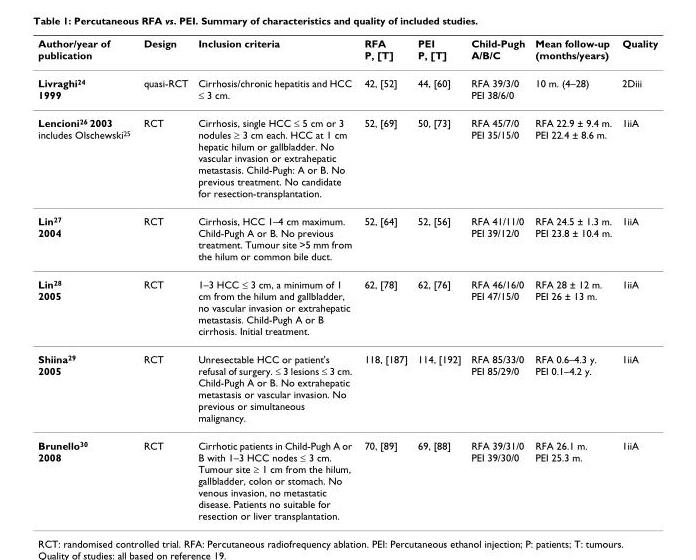table: (37, 36, 657, 521)
table column: (192, 36, 357, 521), (37, 36, 136, 521), (529, 36, 616, 521), (465, 36, 529, 521), (136, 36, 192, 521), (357, 36, 411, 521), (411, 36, 465, 521), (616, 36, 657, 521)
table column header: (37, 36, 657, 68)
table row: (37, 108, 657, 206), (37, 431, 657, 521), (37, 344, 657, 431), (37, 269, 657, 344), (37, 206, 657, 269), (37, 68, 657, 108), (37, 36, 657, 68)
